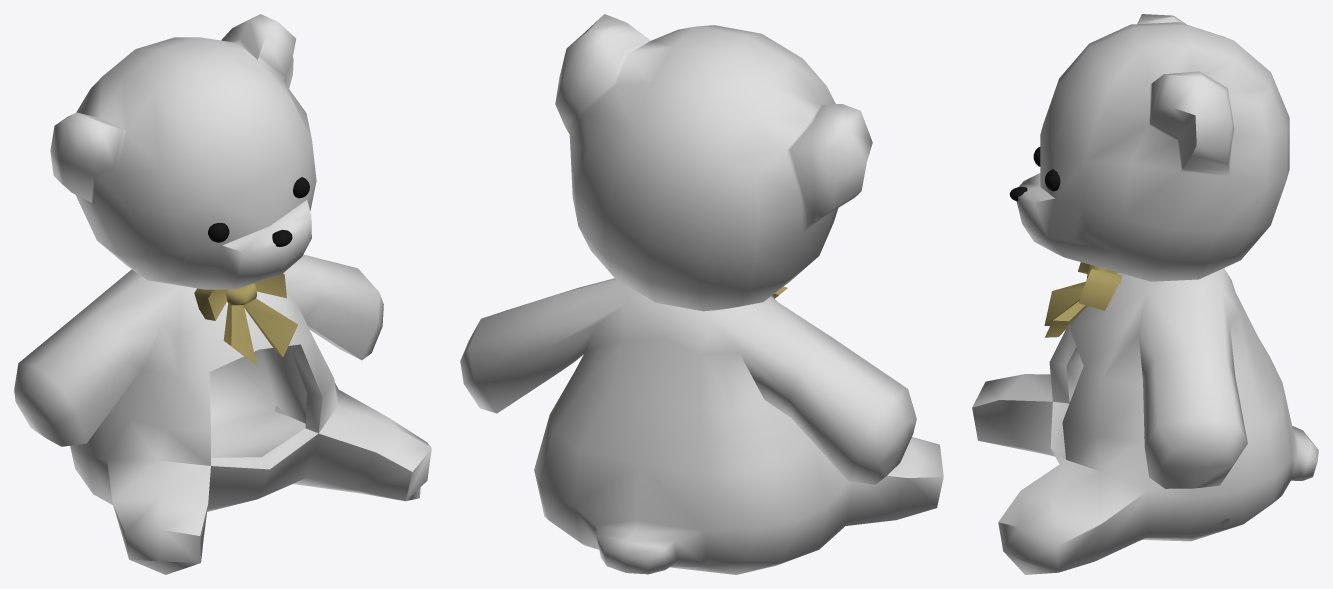
The model's file is NST_TeddyBear_Open_Big.fbx.
3 views of the same model, side by side, from view 1: azimuth 30°, elevation 25°; view 2: azimuth 150°, elevation 25°; view 3: azimuth 270°, elevation 25° (orthographic). The views are drawn at different scales.
Parts seen in each view (by area): view 1: NST_TeddyBear_Open; view 2: NST_TeddyBear_Open; view 3: NST_TeddyBear_Open.
Part boxes in pixels (x1,y1,x2,y2): NST_TeddyBear_Open: (14, 14, 431, 574); NST_TeddyBear_Open: (460, 14, 943, 574); NST_TeddyBear_Open: (972, 14, 1318, 574).
Bounding box in the file's own units: 0.6094 × 0.7149 × 0.4814.
